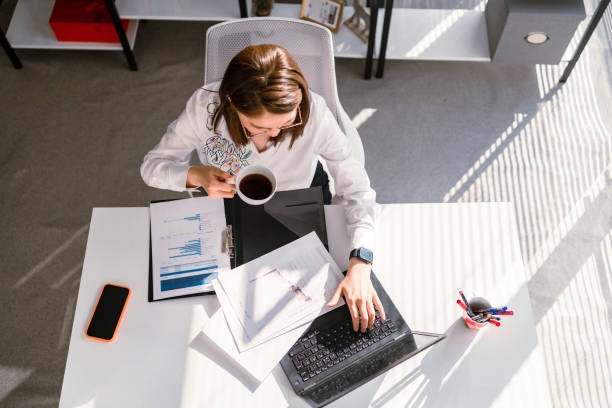keyboard: (289, 304, 396, 375)
laptop: (270, 292, 448, 405)
phone: (83, 280, 131, 341)
smoke: (137, 42, 377, 208)
